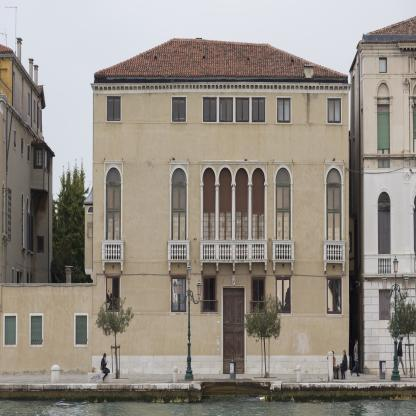Balcony: (199, 239, 268, 263), (100, 240, 125, 263), (166, 240, 191, 263), (271, 240, 296, 263), (323, 240, 346, 263)
Building Outline: (0, 37, 349, 374)
Cornice: (199, 161, 268, 165), (323, 160, 345, 165), (168, 160, 190, 164), (272, 161, 294, 165), (103, 160, 124, 164)
Deco: (232, 275, 236, 286)
Door: (223, 288, 244, 374), (327, 209, 342, 260), (276, 209, 291, 260), (172, 209, 187, 260), (106, 209, 121, 259), (252, 209, 265, 259), (219, 209, 232, 259), (235, 209, 248, 259), (203, 209, 215, 259)
Facade: (0, 37, 352, 375)
Floor: (93, 160, 349, 270)
Floor Slab: (93, 153, 349, 160), (93, 264, 349, 271)
Ground Floor: (93, 271, 349, 375), (0, 283, 93, 375)
Molding: (93, 84, 349, 94)
Pillar: (214, 182, 220, 259), (248, 182, 253, 259), (231, 182, 236, 259), (200, 182, 204, 259), (264, 182, 268, 259)
Roof: (94, 37, 348, 84)
Top Floor: (93, 90, 349, 160)
Window: (276, 277, 291, 314), (327, 278, 342, 314), (171, 276, 186, 312), (106, 276, 120, 312), (252, 277, 265, 313), (203, 276, 216, 312), (171, 183, 187, 209), (106, 183, 121, 209), (276, 183, 291, 209), (327, 184, 342, 209), (327, 98, 341, 123), (172, 97, 186, 122), (203, 97, 217, 122), (219, 97, 233, 122), (277, 98, 291, 123), (107, 97, 120, 122), (236, 97, 249, 122), (252, 97, 265, 122), (5, 316, 16, 345), (76, 316, 87, 345), (31, 316, 42, 345), (326, 167, 342, 184), (171, 167, 187, 183), (276, 167, 291, 183), (106, 167, 121, 183)
